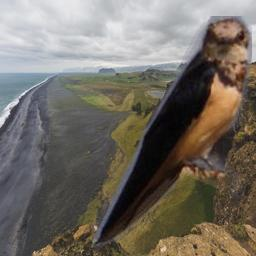Swallow: (93, 16, 252, 253)
